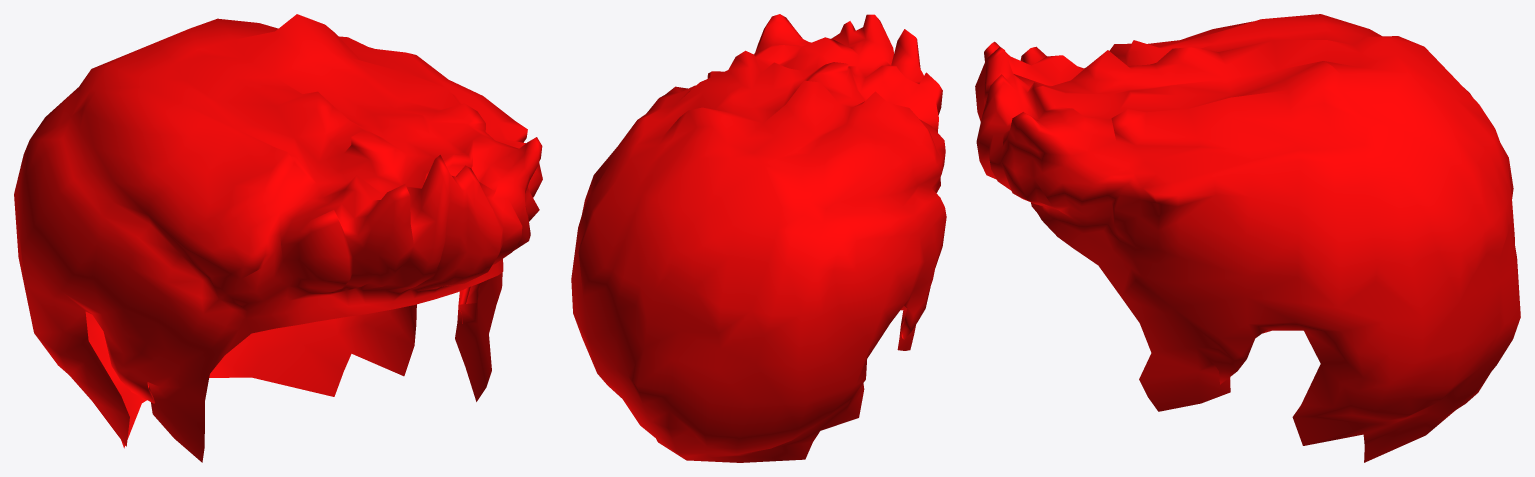
The model's file is elvs_maxwell_hair_F.glb.
The picture shows the model from 3 angles, left to right: view 1: azimuth 30°, elevation 25°; view 2: azimuth 150°, elevation 25°; view 3: azimuth 270°, elevation 25°; orthographic projection. The views are drawn at different scales.
Bounding box in the file's own units: 0.2015 × 0.1933 × 0.2557.
Materials: 1 (1 with a texture image).
